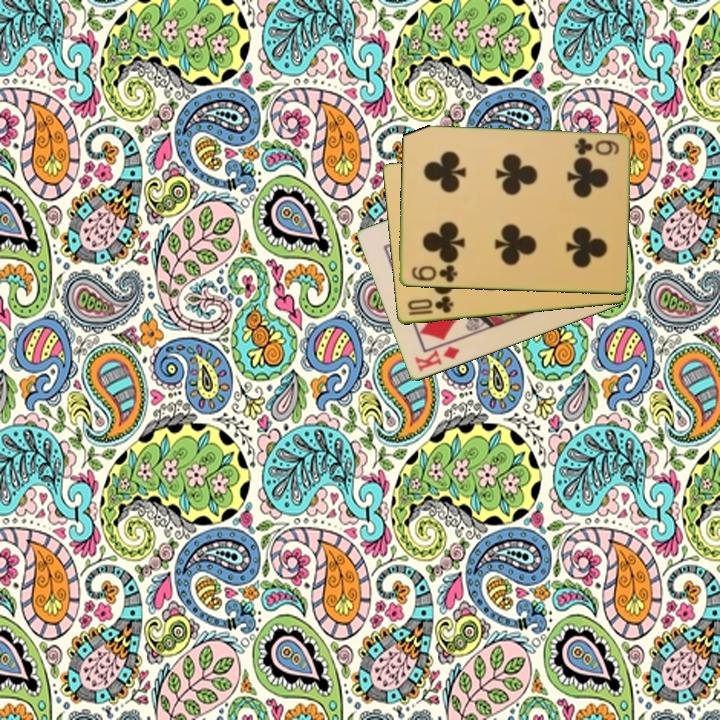10c: (404, 294, 456, 319)
6c: (571, 134, 621, 158), (408, 262, 460, 285)
Kd: (411, 343, 463, 375)
